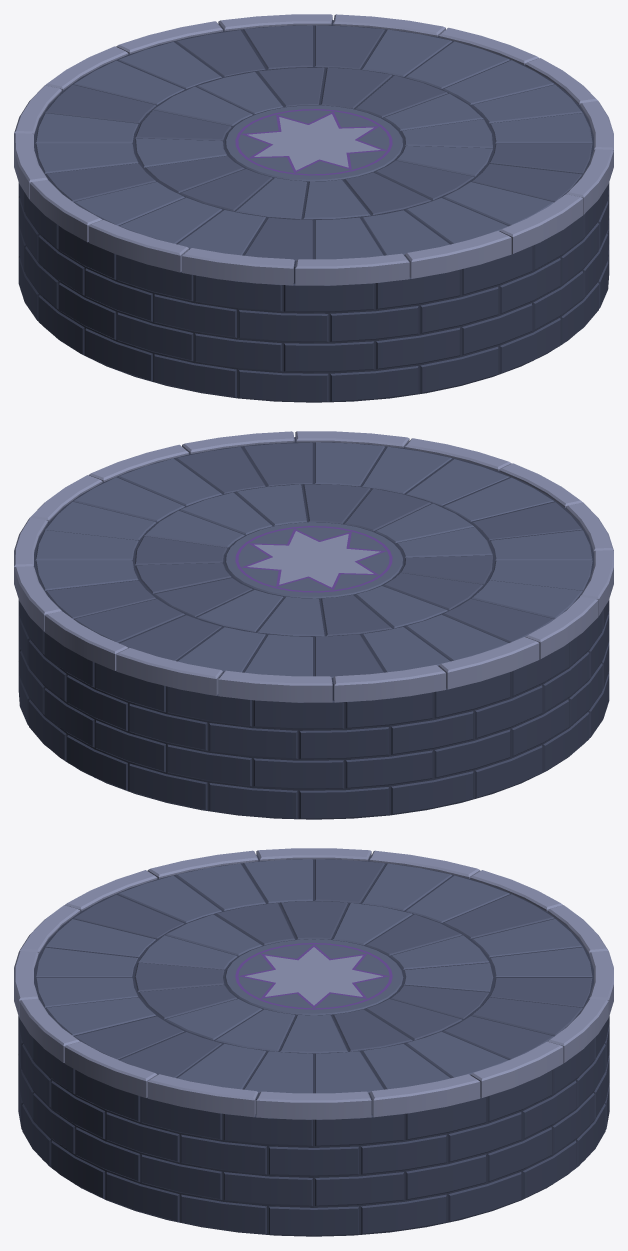
File: sol.fbx
3 renders of one model, top to bottom at view 1: azimuth 30°, elevation 25°; view 2: azimuth 150°, elevation 25°; view 3: azimuth 270°, elevation 25°, orthographic.
Visible parts, largest first — view 1: Dalles, Flanc, Margelle, Joints, Rosace; view 2: Dalles, Flanc, Margelle, Joints, Rosace; view 3: Dalles, Flanc, Margelle, Joints, Rosace.
Part boxes in pixels (x1=…): Dalles: x1=35, y1=25, x2=592, y2=260; Flanc: x1=18, y1=182, x2=609, y2=401; Margelle: x1=14, y1=14, x2=613, y2=285; Joints: x1=26, y1=20, x2=599, y2=402; Rosace: x1=235, y1=109, x2=392, y2=175; Dalles: x1=35, y1=442, x2=592, y2=677; Flanc: x1=18, y1=599, x2=609, y2=818; Margelle: x1=14, y1=431, x2=613, y2=702; Joints: x1=28, y1=437, x2=601, y2=819; Rosace: x1=235, y1=526, x2=392, y2=592; Dalles: x1=35, y1=859, x2=592, y2=1093; Flanc: x1=18, y1=1016, x2=609, y2=1236; Margelle: x1=14, y1=848, x2=613, y2=1119; Joints: x1=23, y1=856, x2=604, y2=1236; Rosace: x1=235, y1=943, x2=392, y2=1009.
Size of the model in its own units: 9.98 by 2.54 by 9.98.
